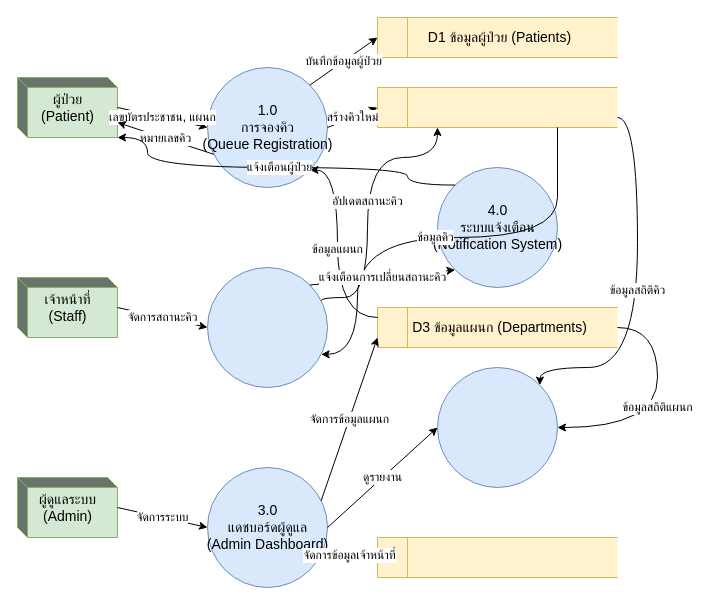
Some shapes in this 710 by 605 pixel diagram are drawn without their labels. Each missing label, with the box of its shape:
2.0 การจัดการคิว (Queue Management): (206, 266, 328, 388)
5.0 รายงานและสถิติ (Reporting): (436, 366, 558, 488)
D2 ข้อมูลคิว (Queues): (376, 86, 618, 128)
D4 ข้อมูลเจ้าหน้าที่ (Staff): (376, 536, 618, 578)
